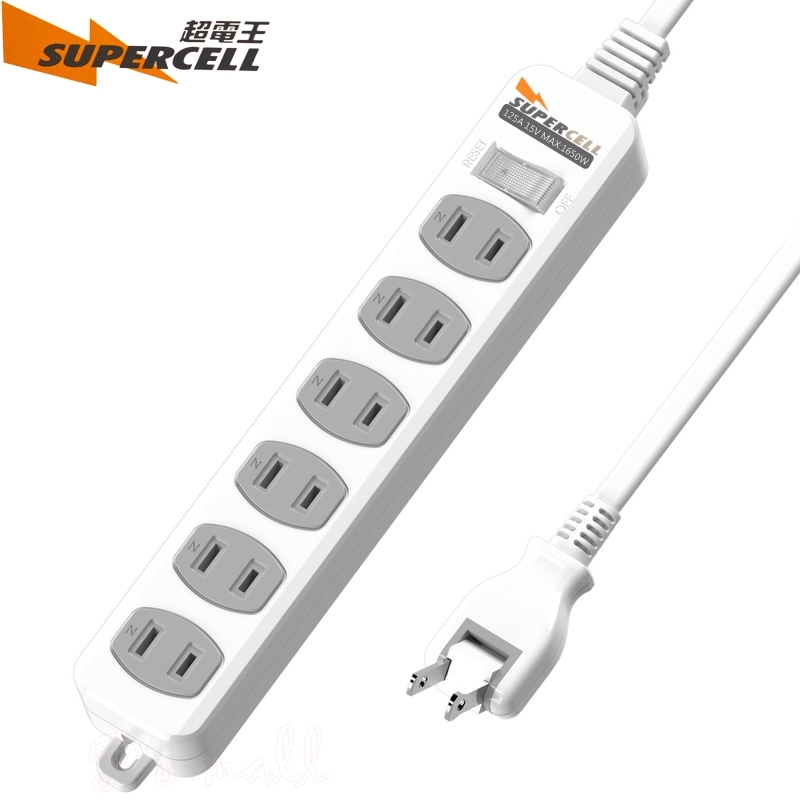socket: (73, 21, 671, 779)
